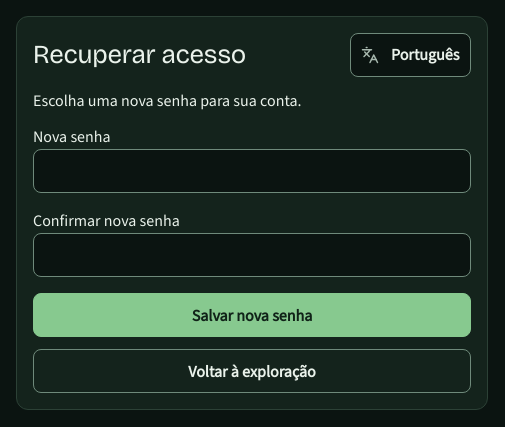
Test: email callback screens › requires matching passwords after a successful recovery exchange
Type "new-password-123" into the password field labelled "Nova senha".
click(252, 171); type("new-password-123")  # box [33, 149, 471, 193]
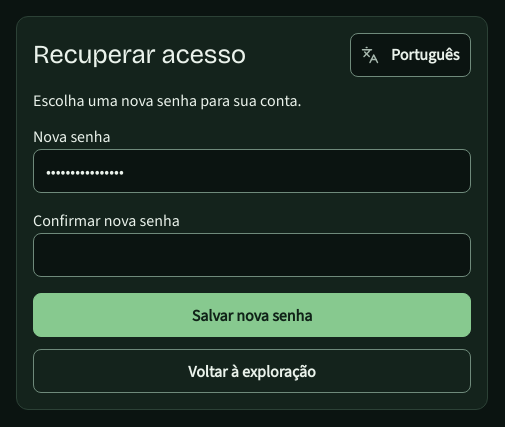
Type "different-123" into the password field labelled "Confirmar nova senha".
click(252, 255); type("different-123")  # box [33, 233, 471, 277]
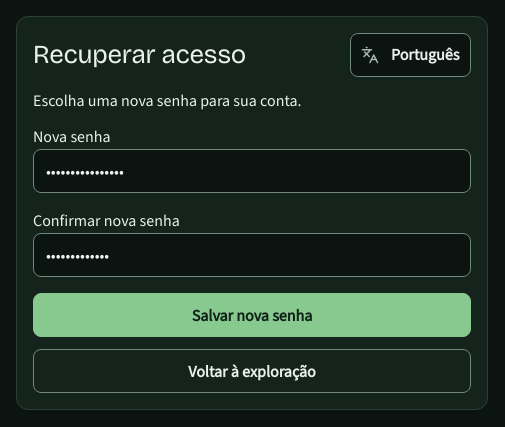
Click the button "Salvar nova senha".
click(252, 315)  # box [33, 293, 471, 337]
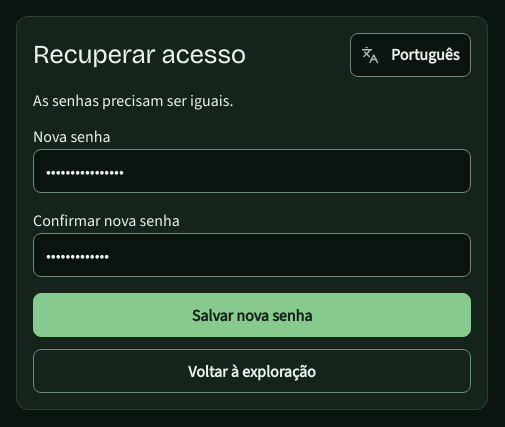
Expected: the text "As senhas precisam ser iguais." is shown, [33, 90, 234, 111]
Type "new-password-123" into the password field labelled "Confirmar nova senha".
click(252, 255); type("new-password-123")  # box [33, 233, 471, 277]
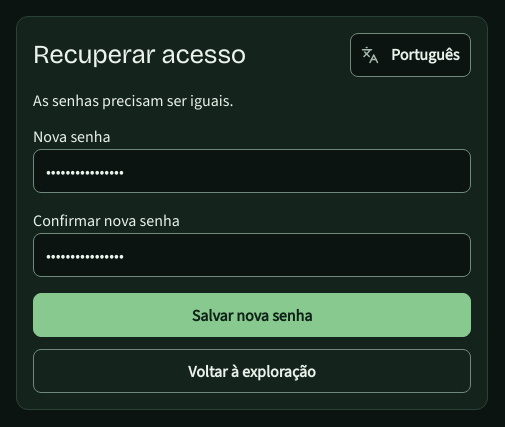
Click the button "Salvar nova senha".
click(252, 315)  # box [33, 293, 471, 337]
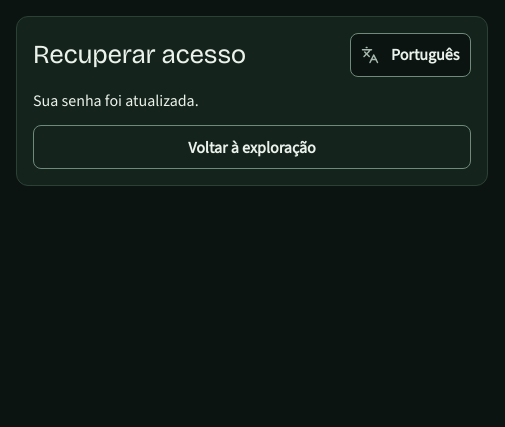
Expected: the text "Sua senha foi atualizada." is shown, [33, 90, 199, 111]
